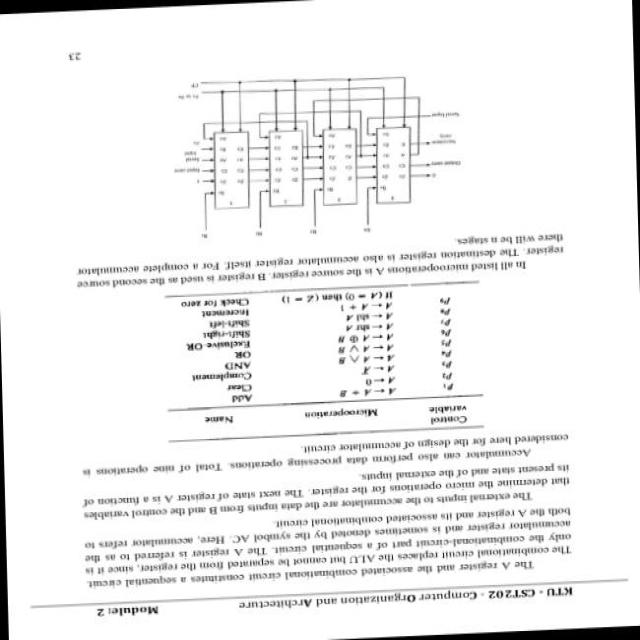Figure Detection - v3 Dataset Version2: (151, 48, 480, 249)
